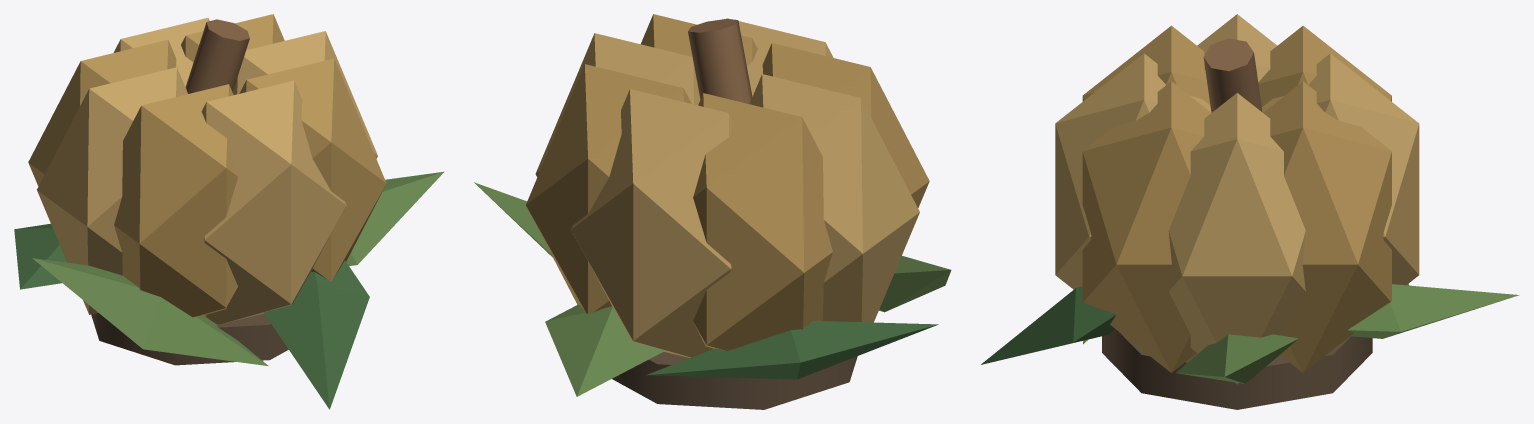
File: plant-pumpkin-3.glb
3 views of the same model, side by side, from view 1: azimuth 30°, elevation 25°; view 2: azimuth 150°, elevation 25°; view 3: azimuth 270°, elevation 25° (orthographic). The views are drawn at different scales.
Visible parts, largest first — view 1: plant-pumpkin-3-visual; view 2: plant-pumpkin-3-visual; view 3: plant-pumpkin-3-visual.
Part boxes in pixels (box(x1,y1,x2,y2)): plant-pumpkin-3-visual: box(14, 14, 444, 409); plant-pumpkin-3-visual: box(474, 14, 951, 409); plant-pumpkin-3-visual: box(981, 14, 1519, 409).
Bounding box in the file's own units: 0.6198 × 0.4216 × 0.6377.
